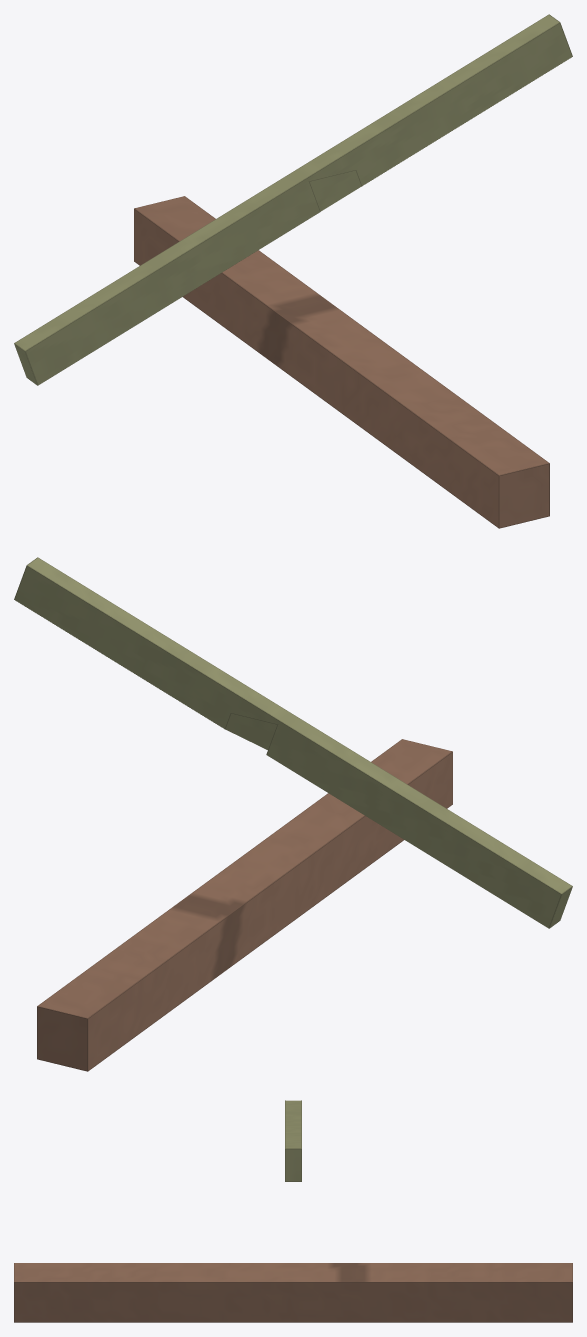
File: jack-rafter-over-plate.glb
3 renders of one model, top to bottom at view 1: azimuth 30°, elevation 25°; view 2: azimuth 150°, elevation 25°; view 3: azimuth 270°, elevation 25°, orthographic. The views are drawn at different scales.
Parts seen in each view (by area): view 1: part-a, part-b; view 2: part-a, part-b; view 3: part-a, part-b.
Boxes of the visible parts, x1,y1,x2,y2 form: part-a: (134, 196, 549, 528); part-b: (14, 14, 572, 385); part-a: (37, 739, 452, 1071); part-b: (14, 557, 572, 928); part-a: (14, 1263, 572, 1322); part-b: (285, 1100, 301, 1181).
Bounding box in the file's own units: 1.3 × 0.7232 × 1.5.
